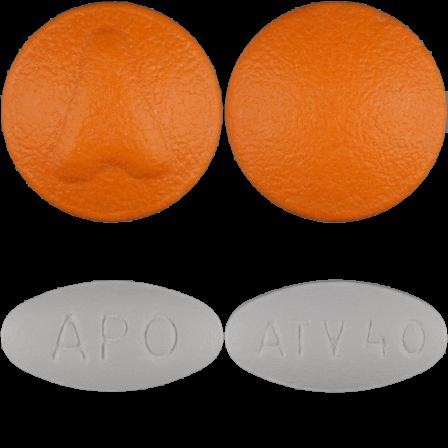53808-1034: (0, 0, 224, 224)
